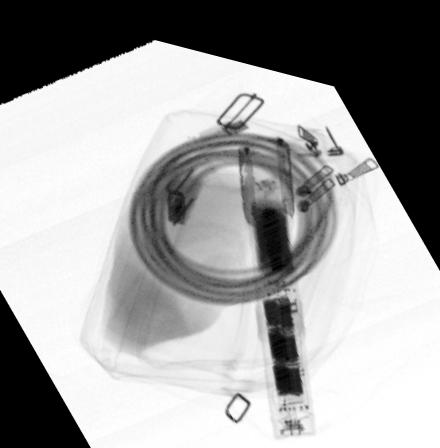Baton: (235, 117, 316, 423)
